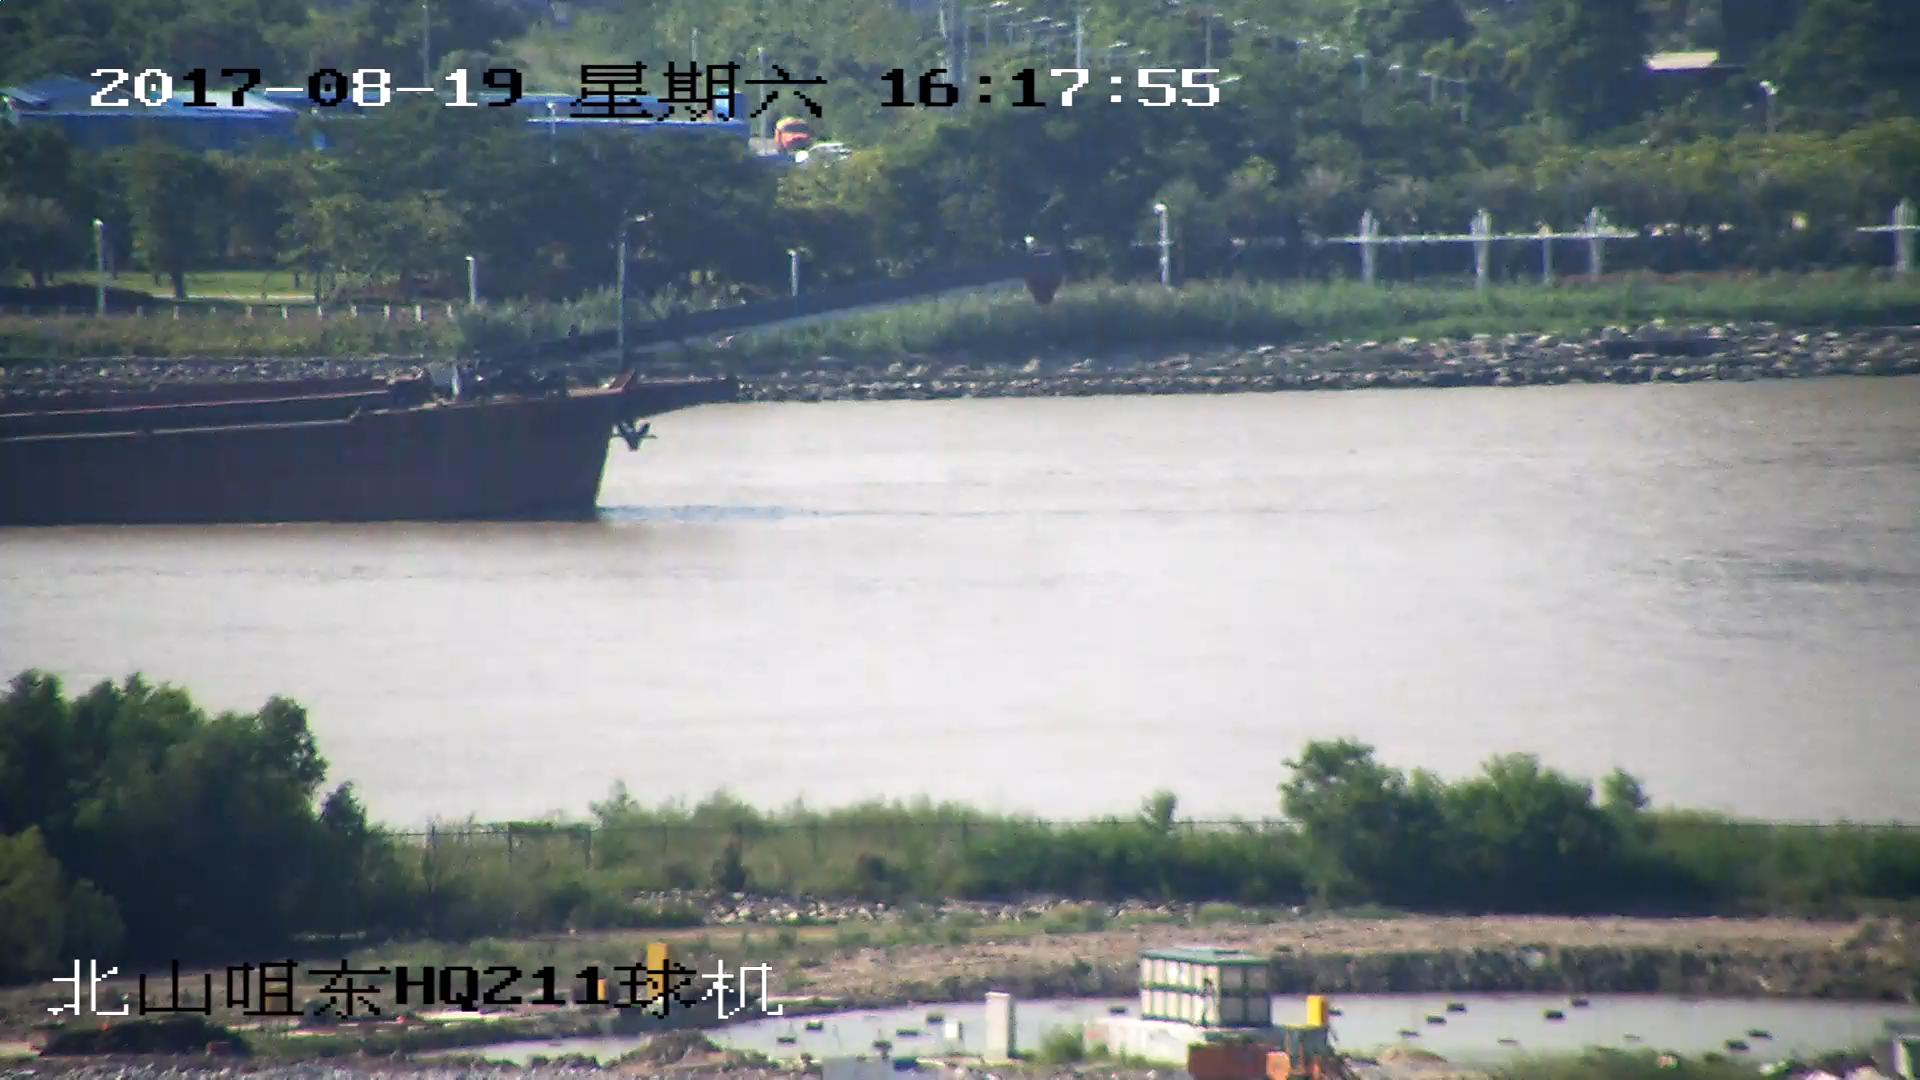bulk cargo carrier: (1, 242, 1058, 526)
